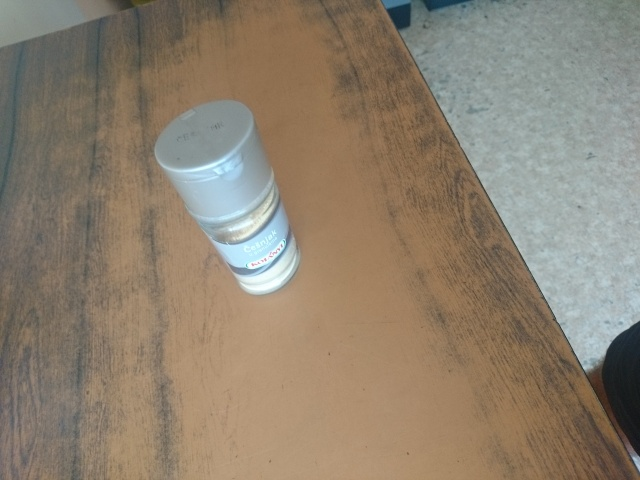Kotanyi Garlic Granules 70g: (151, 97, 304, 299)
